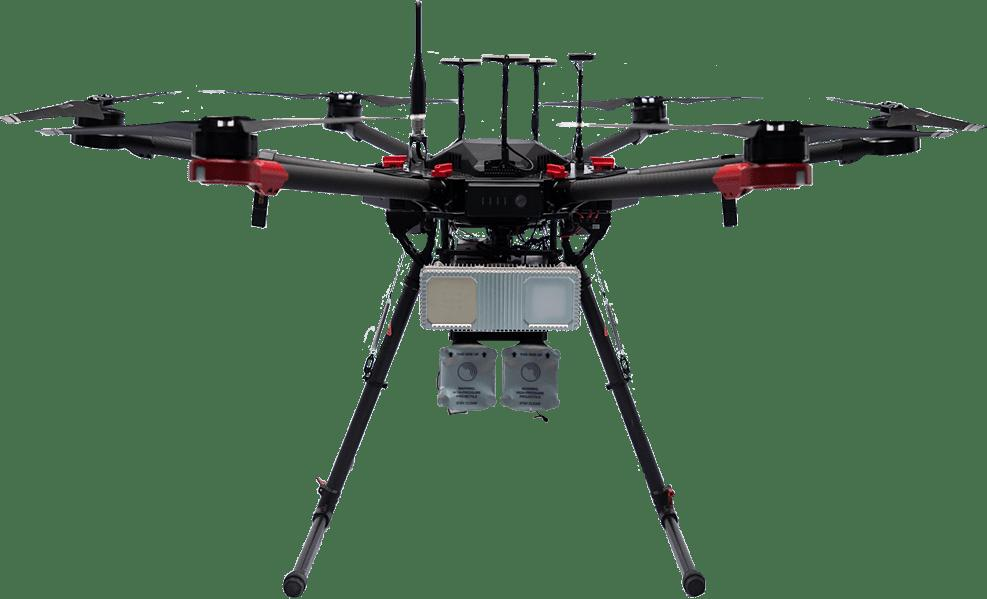drone: (6, 47, 987, 281)
